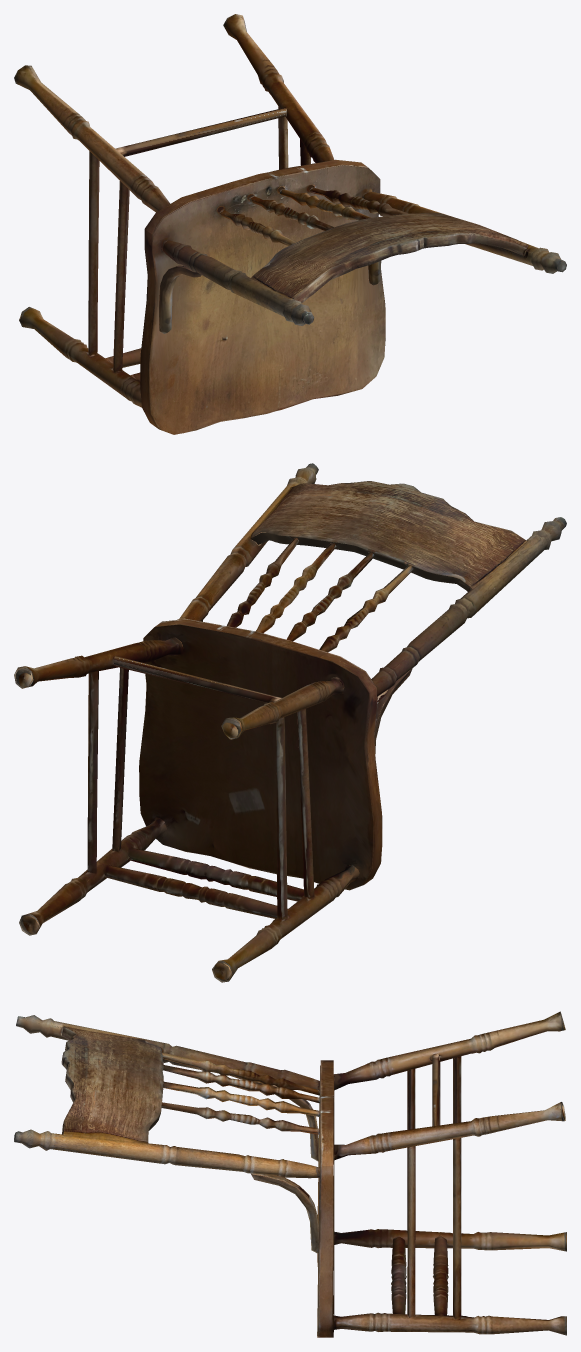
The model's file is dining-chair.glb.
3 views of the same model, one above another, from view 1: azimuth 30°, elevation 25°; view 2: azimuth 150°, elevation 25°; view 3: azimuth 270°, elevation 25° (orthographic). The views are drawn at different scales.
Parts seen in each view (by area): view 1: Object_2; view 2: Object_2; view 3: Object_2.
Boxes of the visible parts, x1,y1,x2,y2 form: Object_2: (14,14,566,434); Object_2: (14,463,566,982); Object_2: (14,1011,566,1337).
Size of the model in its own units: 0.4476 by 0.4408 by 0.901.
1 material, 1 textured.
